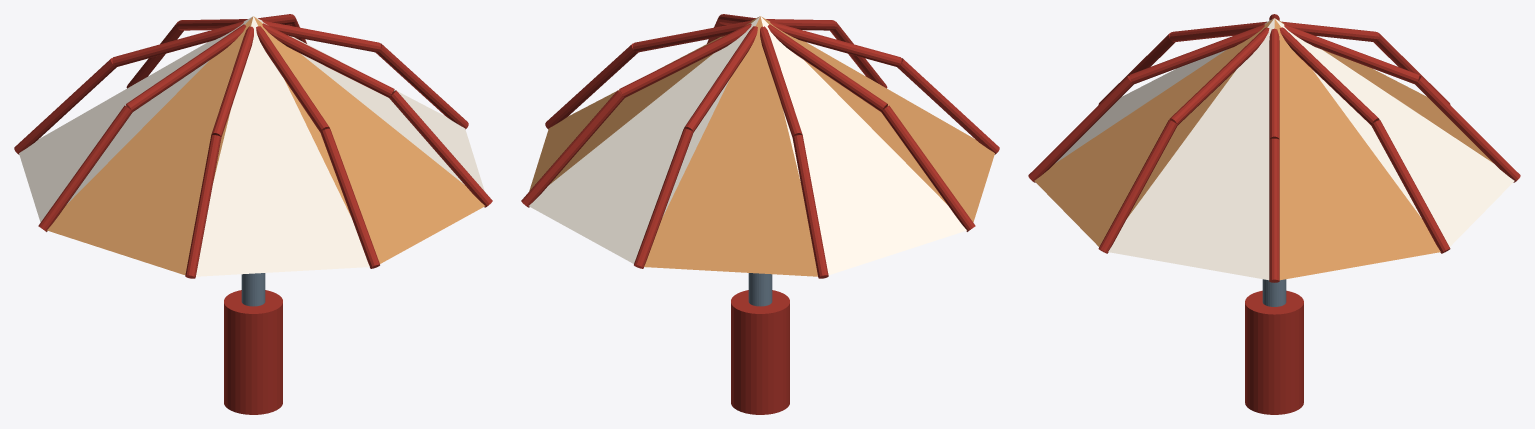
The model's file is foldumbrella.glb.
3 views of the same model, side by side, from view 1: azimuth 30°, elevation 25°; view 2: azimuth 150°, elevation 25°; view 3: azimuth 270°, elevation 25° (orthographic).
Visible parts, largest first — view 1: panel2, panel3, panel1, panel4, handle, panel0, rib21, rib41, rib31, rib11, rib10, rib40 (+9 smaller); view 2: panel5, panel4, panel6, panel3, handle, panel7, rib61, rib41, rib51, rib71, rib70, rib40 (+9 smaller); view 3: panel0, panel7, panel1, panel6, handle, panel2, panel5, rib11, rib71, rib01, rib20, rib60 (+10 smaller).
Boxes of the visible parts, <box> form: panel2: <box>196,16,369,276</box>; panel3: <box>47,16,253,274</box>; panel1: <box>254,17,484,263</box>; panel4: <box>19,16,252,222</box>; handle: <box>224,290,282,414</box>; panel0: <box>254,16,484,190</box>; rib21: <box>320,128,379,268</box>; rib41: <box>38,105,132,231</box>; rib31: <box>185,135,221,278</box>; rib11: <box>389,90,492,207</box>; rib10: <box>262,23,394,97</box>; rib40: <box>126,24,246,111</box>; panel5: <box>644,16,817,276</box>; panel4: <box>760,16,966,274</box>; panel6: <box>529,17,759,263</box>; panel3: <box>761,16,994,222</box>; handle: <box>731,290,789,414</box>; panel7: <box>529,16,759,190</box>; rib61: <box>634,128,693,268</box>; rib41: <box>881,105,975,231</box>; rib51: <box>792,135,828,278</box>; rib71: <box>521,90,624,207</box>; rib70: <box>619,23,751,97</box>; rib40: <box>767,24,887,111</box>; panel0: <box>1108,18,1274,280</box>; panel7: <box>1274,19,1440,280</box>; panel1: <box>1034,18,1273,246</box>; panel6: <box>1275,18,1514,246</box>; handle: <box>1245,290,1303,414</box>; panel2: <box>1055,18,1273,163</box>; panel5: <box>1275,18,1493,163</box>; rib11: <box>1098,120,1177,253</box>; rib71: <box>1371,120,1450,253</box>; rib01: <box>1269,138,1279,282</box>; rib20: <box>1129,24,1264,84</box>; rib60: <box>1284,24,1419,84</box>.
Bounding box in the file's own units: 1.67 × 1.44 × 1.67.
